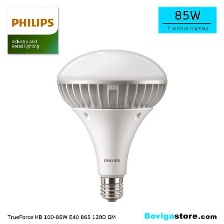light_bulb: (53, 45, 173, 204)
